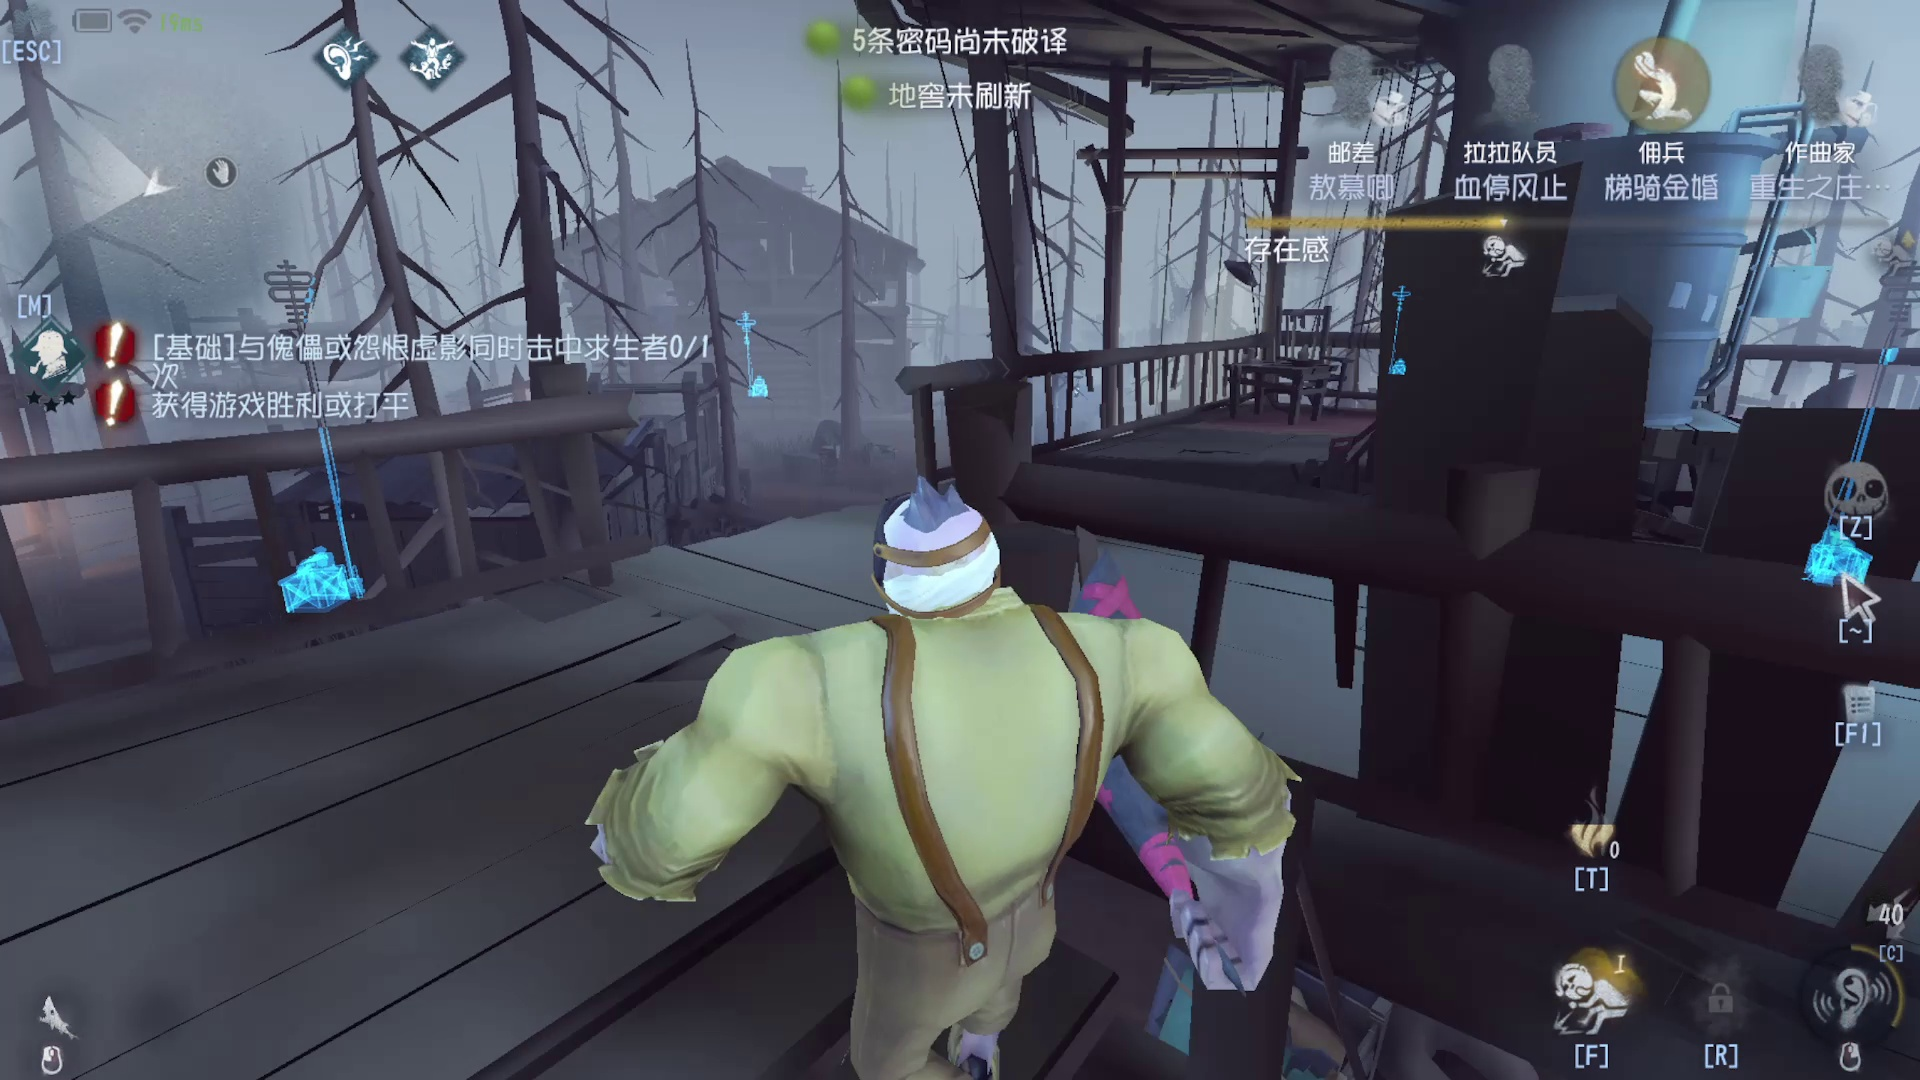密码机: (233, 244, 400, 636), (1826, 243, 1903, 620), (1367, 272, 1433, 400), (723, 306, 783, 426)
